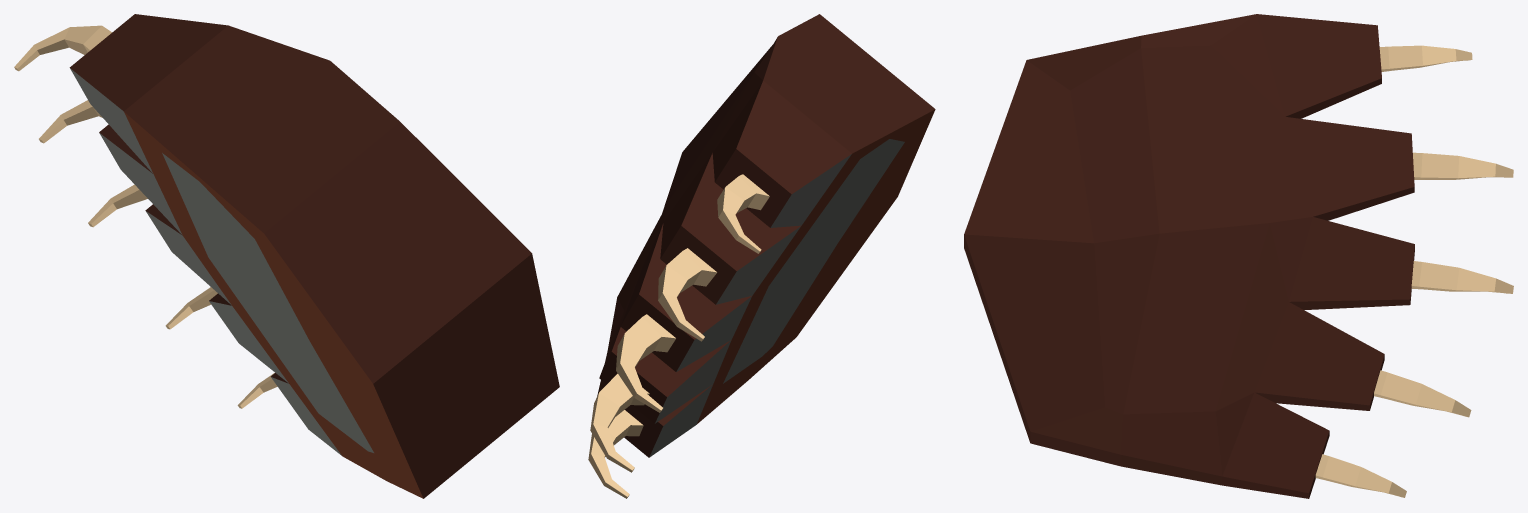
File: bearclaw-right.glb
3 views of the same model, side by side, from view 1: azimuth 30°, elevation 25°; view 2: azimuth 150°, elevation 25°; view 3: azimuth 270°, elevation 25° (orthographic). The views are drawn at different scales.
Parts seen in each view (by area): view 1: Geo_BearClaw; view 2: Geo_BearClaw; view 3: Geo_BearClaw.
Part boxes in pixels (x1,y1,x2,y2): Geo_BearClaw: [14, 14, 559, 498]; Geo_BearClaw: [588, 14, 935, 498]; Geo_BearClaw: [964, 14, 1513, 498].
Size of the model in its own units: 0.1337 by 0.1776 by 0.2.
1 material, 1 textured.
